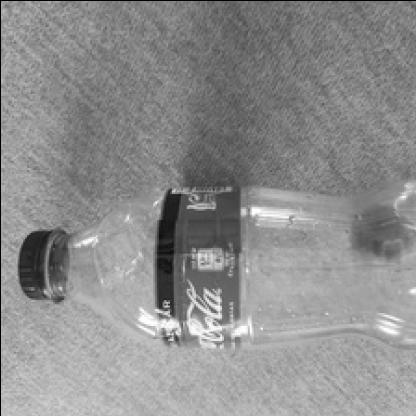plastic_bottles: (17, 186, 416, 352)
